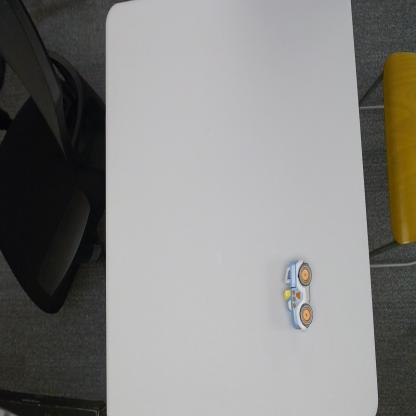Car: (282, 256, 315, 333)
